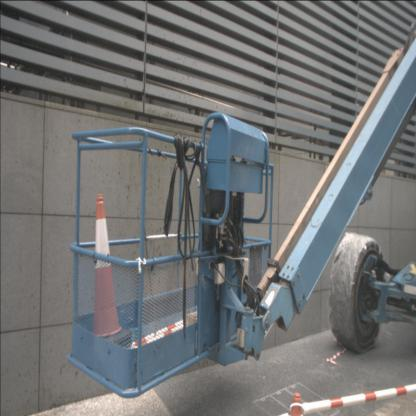movable_object-trafficcone: (86, 194, 132, 352), (288, 392, 304, 416)
